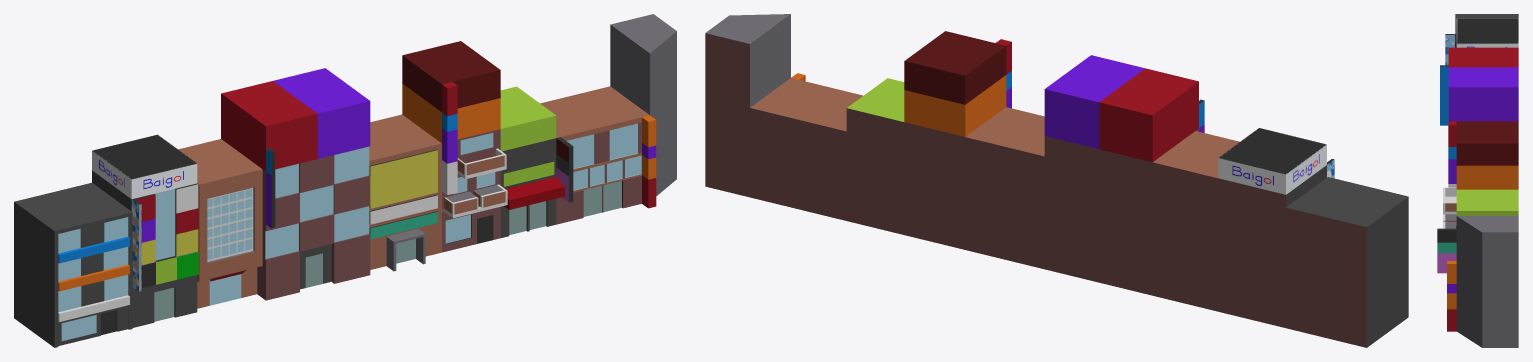
Rendered from MainStreetBlock1.fbx.
The picture shows the model from 3 angles, left to right: view 1: azimuth 30°, elevation 25°; view 2: azimuth 150°, elevation 25°; view 3: azimuth 270°, elevation 25°; orthographic projection. The views are drawn at different scales.
Visible parts, largest first — view 1: Cube; view 2: Cube; view 3: Cube.
Boxes of the visible parts, bbox=[...] form: Cube: bbox=[14, 14, 676, 347]; Cube: bbox=[705, 14, 1408, 347]; Cube: bbox=[1437, 14, 1518, 347].
Size of the model in its own units: 60256 by 15695 by 8493.
21 materials, 1 textured.
